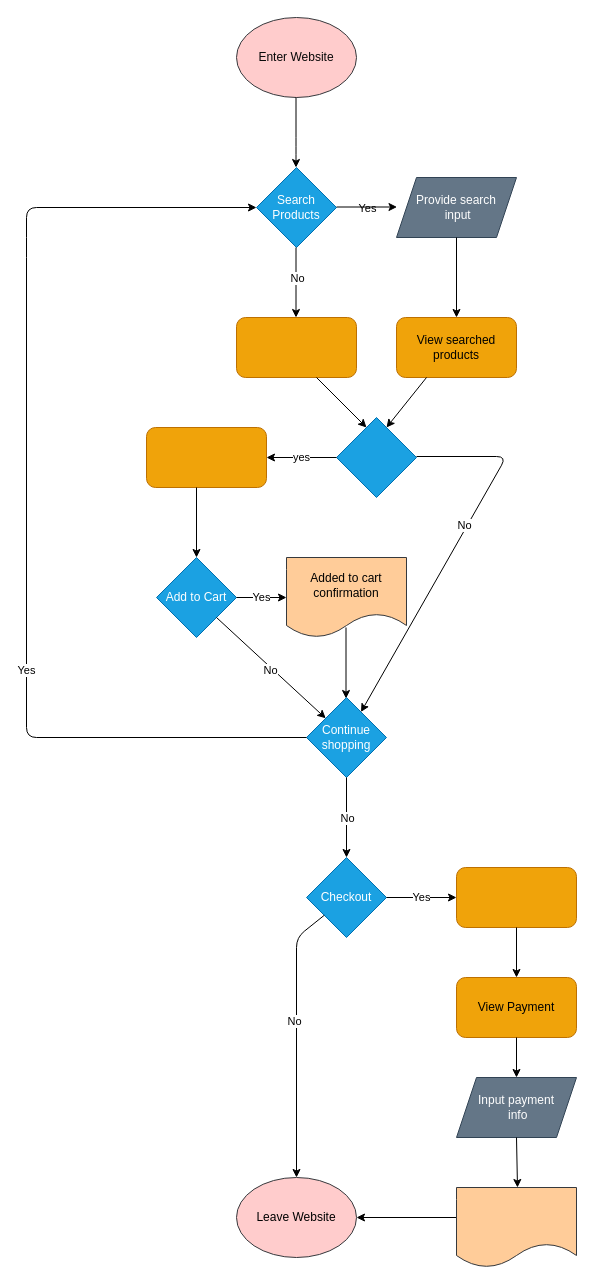
The diagram is 594 pixels wide and 1285 high, and some of its shapes have lost their labels. The centre of each missing label's shape, as x and y in pixels:
"Explore Products on homepage" goes at pixel 296 347.
"Order confirmation and receive email" goes at pixel 516 1227.
"Products webpage opens" goes at pixel 206 457.
"View Cart" goes at pixel 516 897.
"View product" goes at pixel 376 457.
